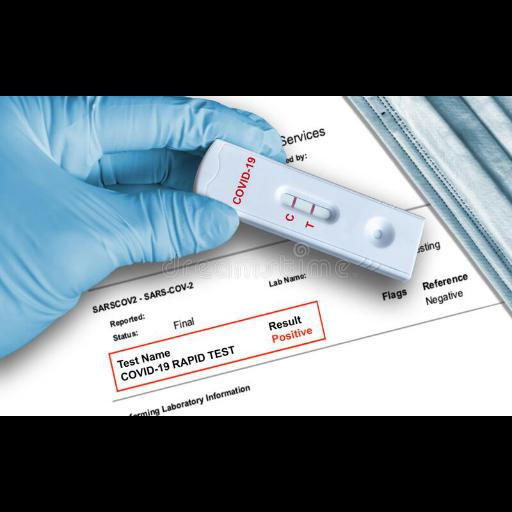Pos: (194, 138, 426, 278)
